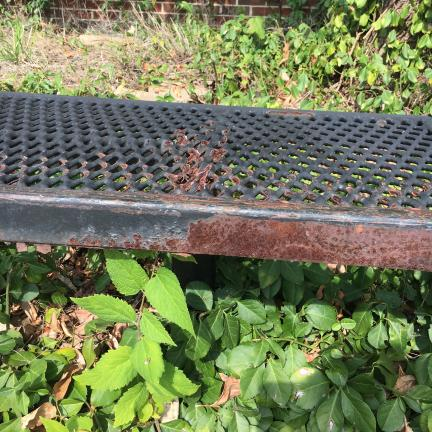besi_tidak_karat: (233, 115, 427, 177), (0, 89, 148, 151), (1, 195, 181, 225)
karat: (186, 210, 432, 263)
